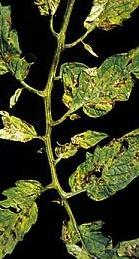Tomato Septoria leaf spot: (53, 27, 139, 121), (69, 114, 139, 204), (0, 177, 46, 259), (0, 0, 40, 91), (79, 0, 139, 31), (100, 227, 139, 259)
